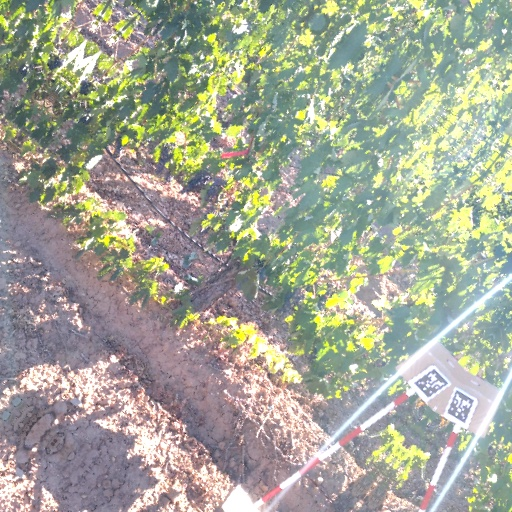QR: (409, 364, 451, 405)
